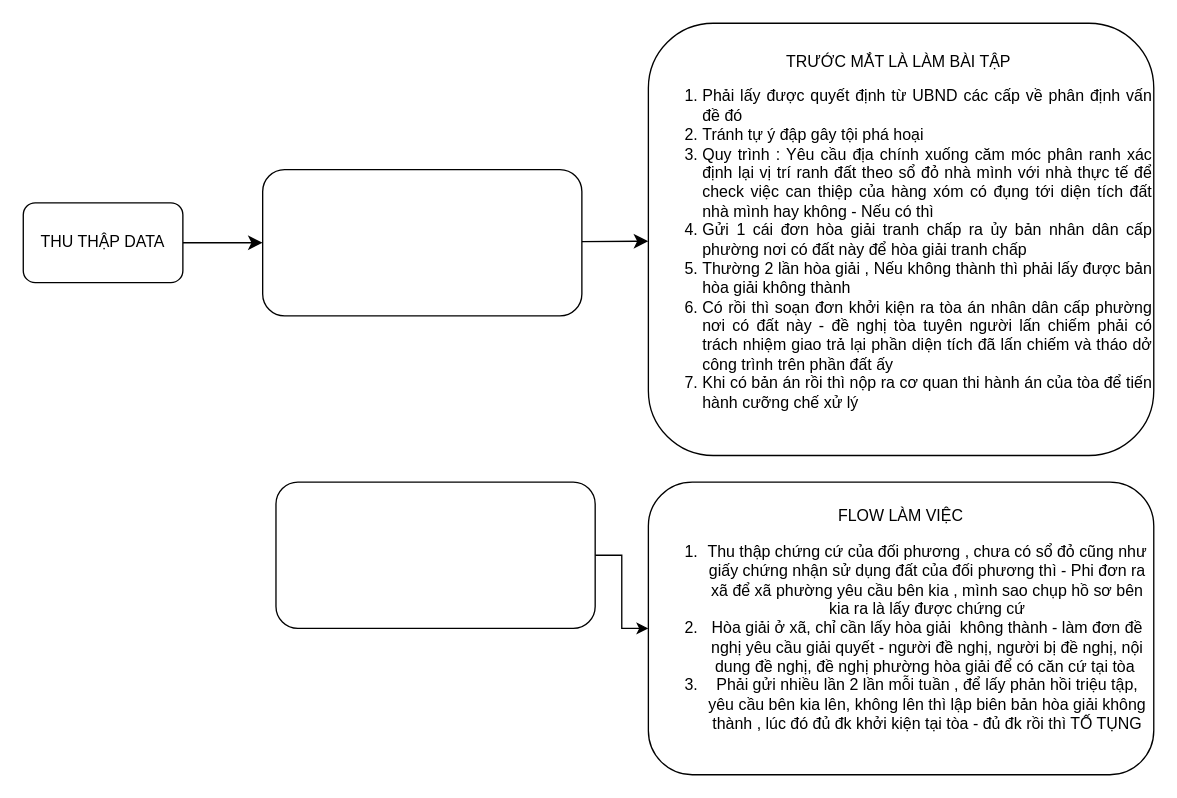
Image size: 1177x798. Some labels were removed from this diagram. Here are the shapes that lost their labels. From the top down, the centre of each, then its label:
pixel 421 242: VIDEO LUẬT SƯ HÀ : LÀM GÌ KHI BỊ HX LẤN ĐẤT
pixel 435 554: VIDEO LUẬT SƯ CHIẾN : TRANH CHẤP ĐẤT FLOW
